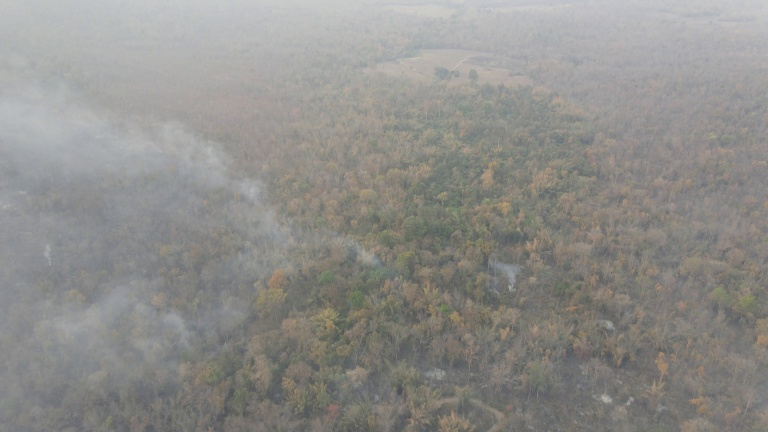smoke: (1, 54, 309, 432), (328, 227, 401, 282), (485, 252, 527, 302)
